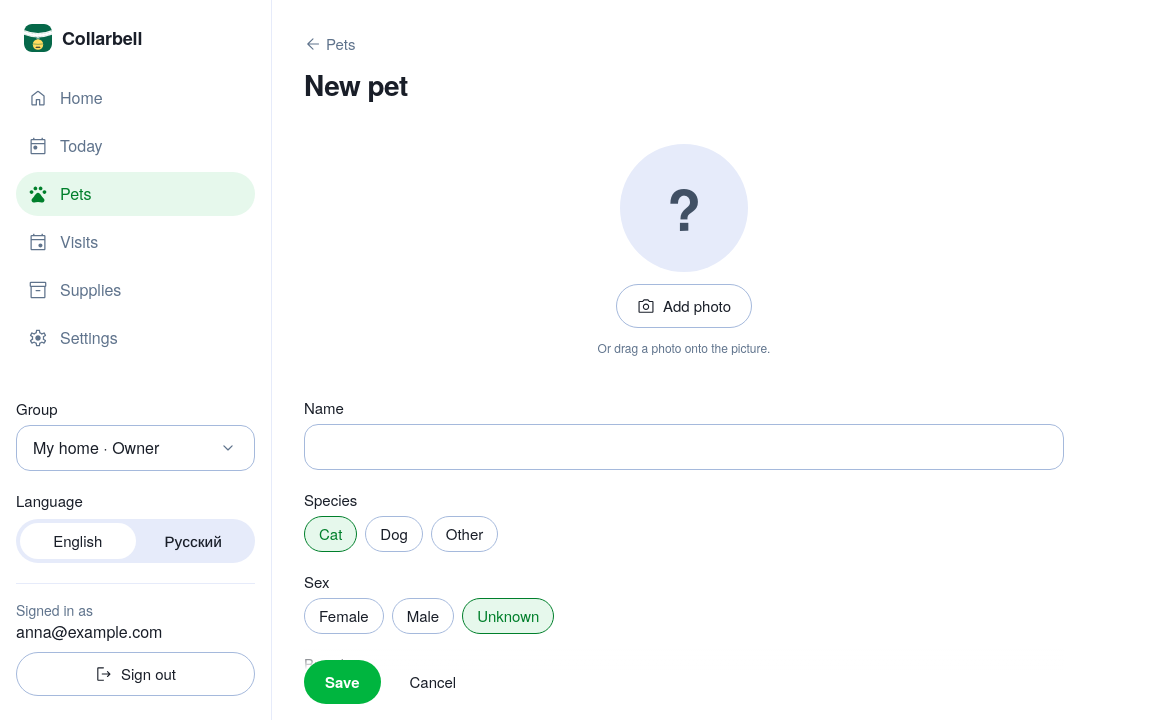
a pet saving while the person moves (review P1) › opens nothing in another group when its own went away during the save
The width and height of the screenshot is (1152, 720).
In the field labelled "Name": [684, 447] box x1=304 y1=424 x2=1064 y2=470, type "Luna"
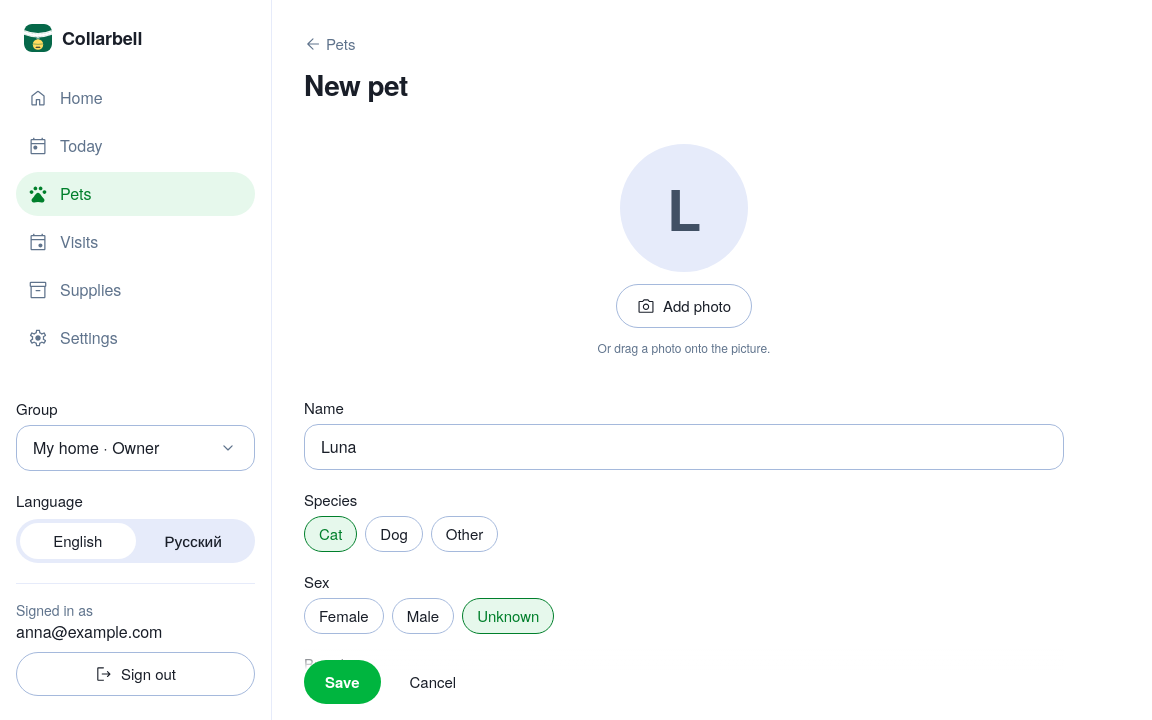
Click the button "Save": [342, 682] box x1=304 y1=660 x2=380 y2=704
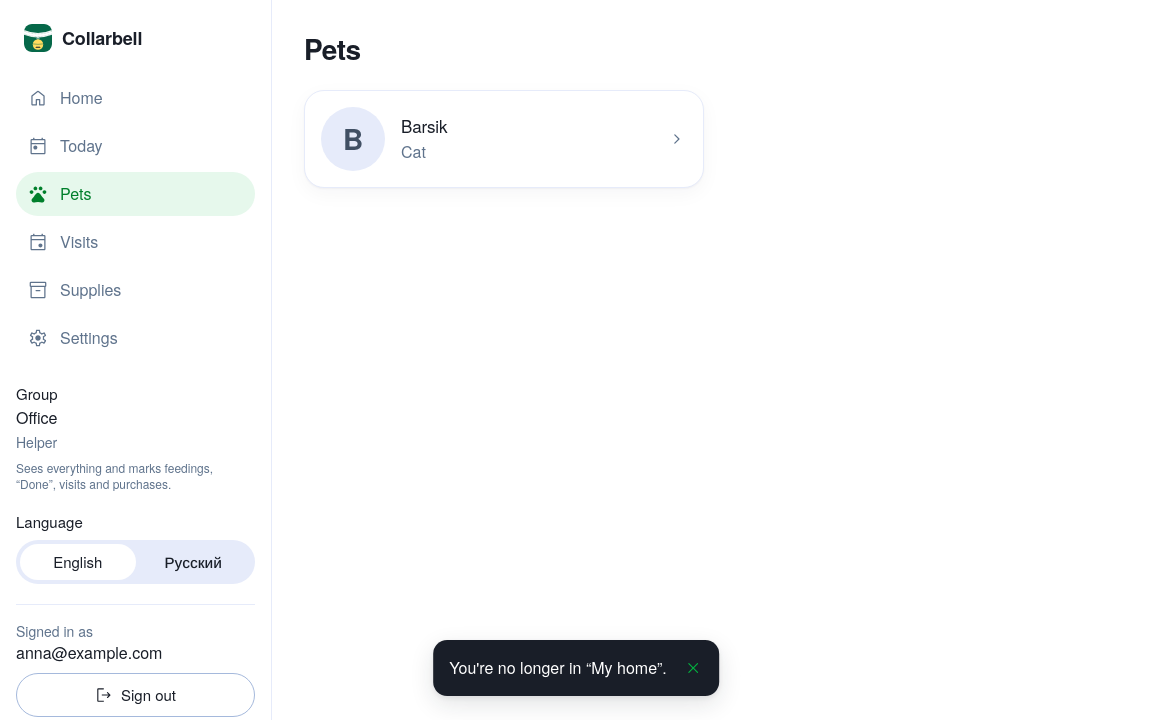
Expected: the link "Barsik" is shown, x1=401 y1=113 x2=447 y2=138
